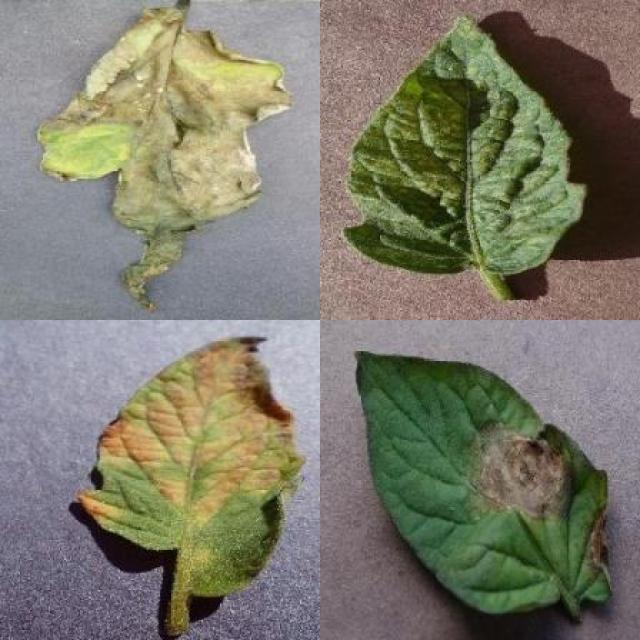Late Blight: (38, 7, 291, 314), (354, 347, 614, 614)
Leaf Mold: (80, 336, 307, 598)
Spider Mites: (342, 17, 588, 276)
